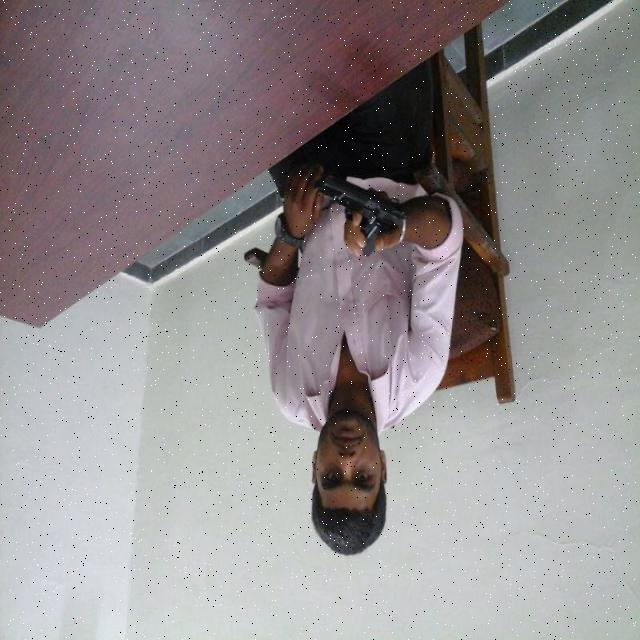gun: (307, 161, 416, 264)
